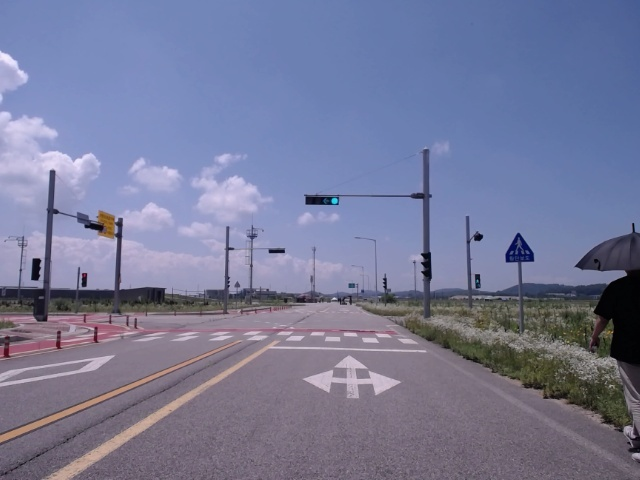all_green_4: (304, 193, 341, 206)
